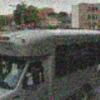buses: (0, 29, 100, 100)
